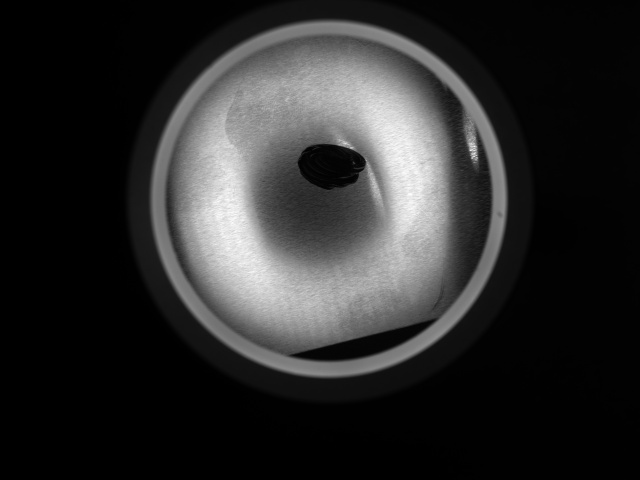zang_wu: (295, 143, 368, 192)
